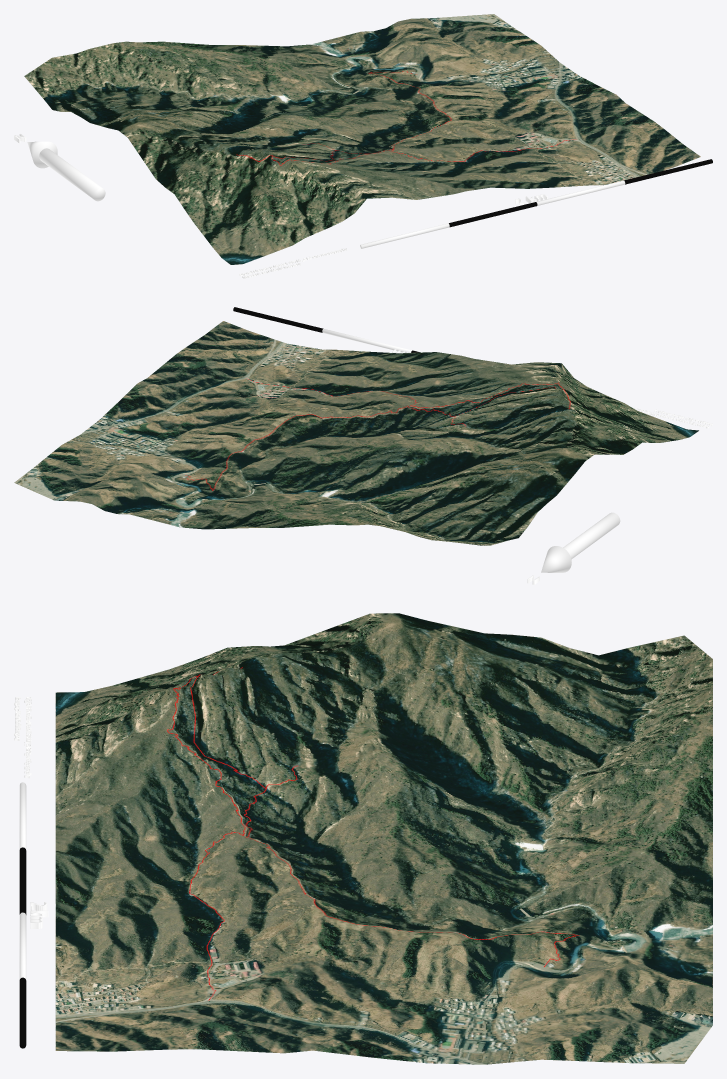
Rendered from beijingchangchen.glb.
3 views of the same model, one above another, from view 1: azimuth 30°, elevation 25°; view 2: azimuth 150°, elevation 25°; view 3: azimuth 270°, elevation 25° (orthographic). The views are drawn at different scales.
Parts seen in each view (by area): view 1: TerrainNode_0, Adornments_1; view 2: TerrainNode_0, Adornments_1; view 3: TerrainNode_0, Adornments_1.
Boxes of the visible parts, x1,y1,x2,y2 form: TerrainNode_0: [24, 14, 700, 264]; Adornments_1: [14, 134, 712, 278]; TerrainNode_0: [14, 321, 698, 545]; Adornments_1: [233, 307, 712, 584]; TerrainNode_0: [55, 613, 712, 1064]; Adornments_1: [14, 697, 48, 1048].
Bounding box in the file's own units: 3.79 × 0.5029 × 2.99.
Materials: 2 (1 with a texture image).
